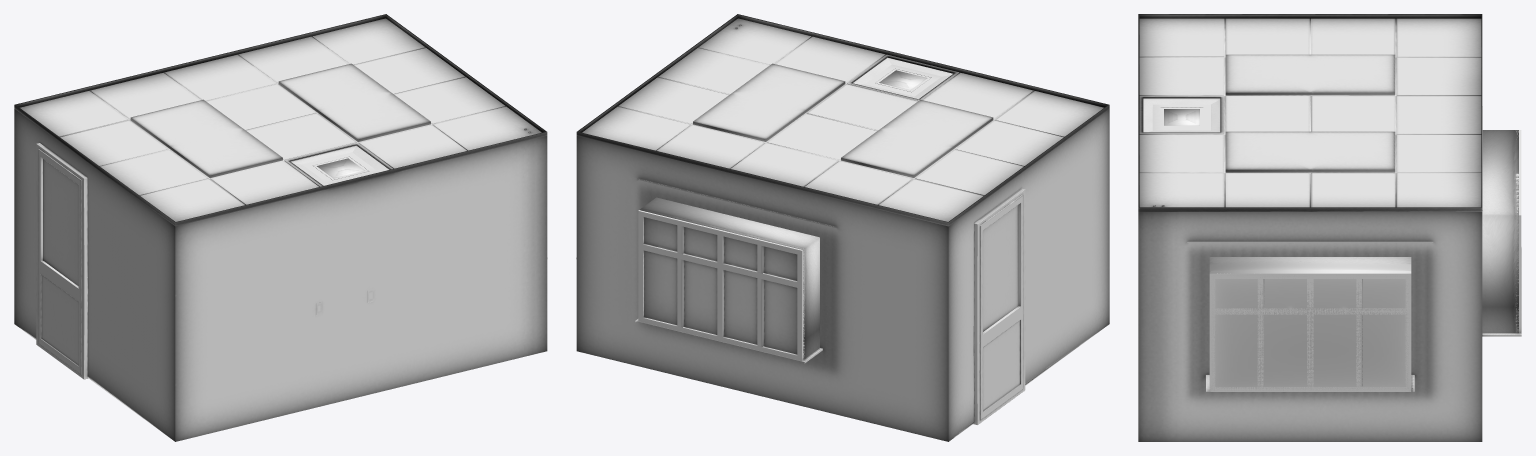
File: room.fbx
3 views of the same model, side by side, from view 1: azimuth 30°, elevation 25°; view 2: azimuth 150°, elevation 25°; view 3: azimuth 270°, elevation 25° (orthographic). The views are drawn at different scales.
Parts seen in each view (by area): view 1: room.001; view 2: room.001; view 3: room.001.
Part boxes in pixels (left/top/right/bottom): room.001: left=14, top=14, right=547, bottom=441; room.001: left=576, top=14, right=1109, bottom=441; room.001: left=1138, top=14, right=1521, bottom=441.
Bounding box in the file's own units: 439 × 227 × 334.
